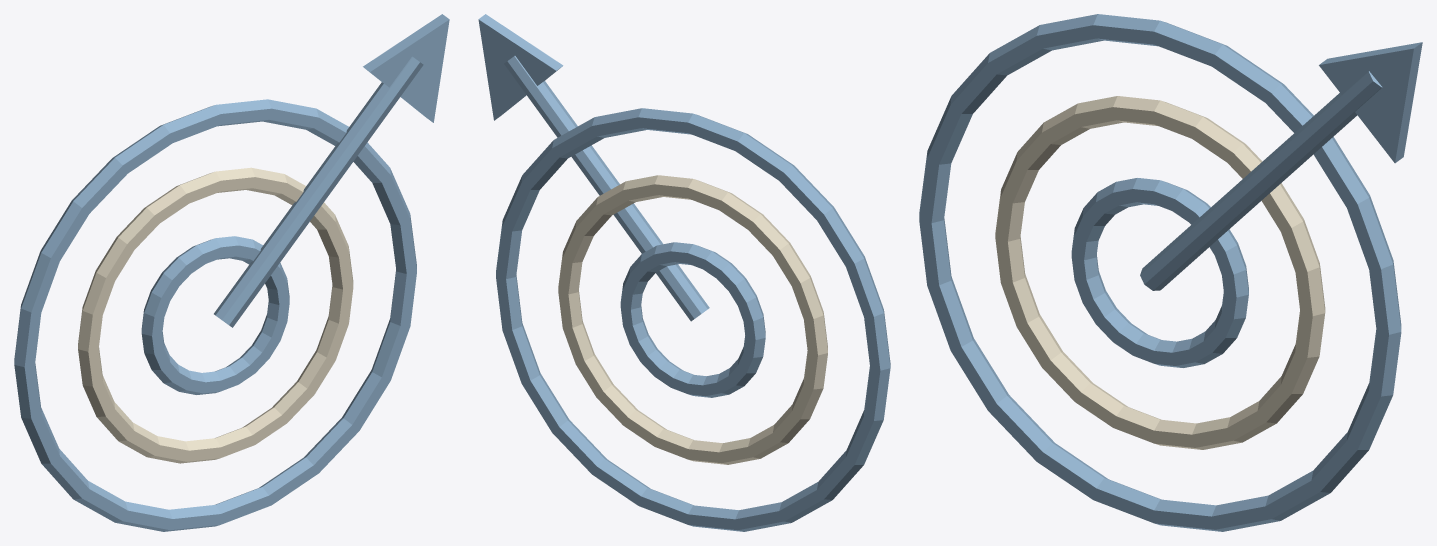
File: practice-perfect.glb
3 renders of one model, left to right at view 1: azimuth 30°, elevation 25°; view 2: azimuth 150°, elevation 25°; view 3: azimuth 330°, elevation 25°, orthographic. The views are drawn at different scales.
Parts seen in each view (by area): view 1: Practice target.003, Practice target.004, Practice arrow.001; view 2: Practice target.003, Practice target.004, Practice arrow.001; view 3: Practice target.003, Practice target.004, Practice arrow.001.
Part boxes in pixels (x1,y1,x2,y2): Practice target.003: (14, 99, 416, 531); Practice target.004: (78, 167, 353, 463); Practice arrow.001: (214, 14, 449, 327); Practice target.003: (496, 108, 890, 531); Practice target.004: (558, 175, 827, 464); Practice arrow.001: (478, 14, 709, 321); Practice target.003: (919, 14, 1401, 531); Practice target.004: (995, 96, 1325, 449); Practice arrow.001: (1140, 42, 1422, 290).
Size of the model in its own units: 0.0267 by 0.0276 by 0.00201.
